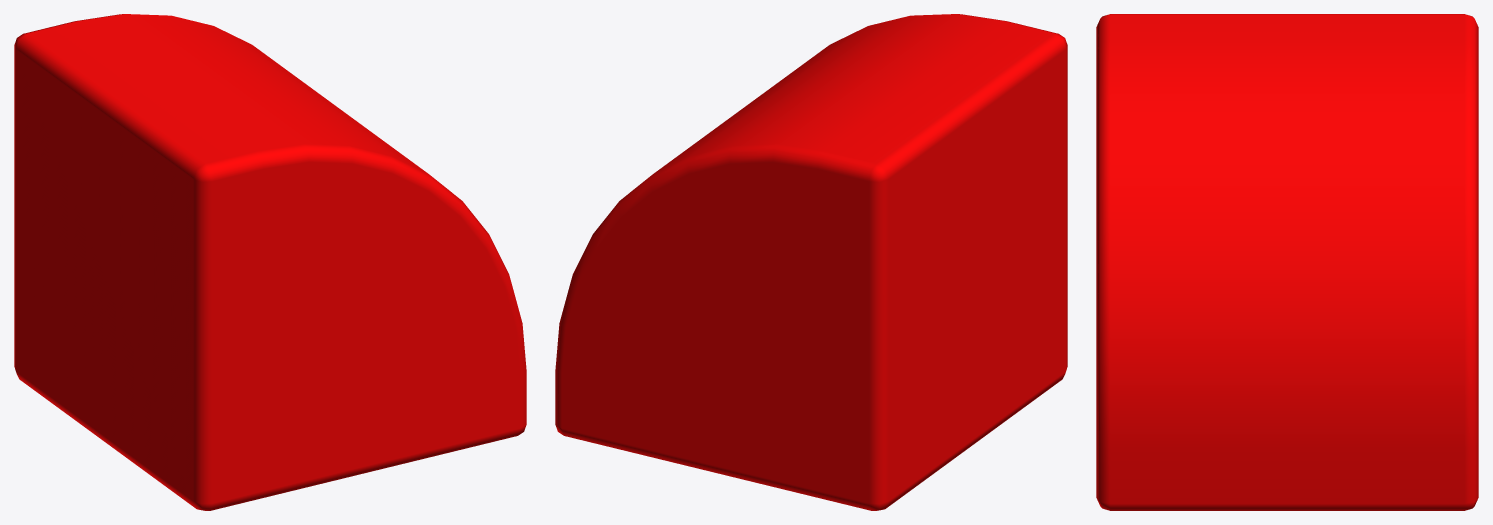
File: ArchCube.gltf
The picture shows the model from 3 angles, left to right: view 1: azimuth 30°, elevation 25°; view 2: azimuth 150°, elevation 25°; view 3: azimuth 270°, elevation 25°; orthographic projection.
Visible parts, largest first — view 1: ArchCube; view 2: ArchCube; view 3: ArchCube.
Boxes of the visible parts, <box> form: ArchCube: <box>14,14,526,510</box>; ArchCube: <box>555,14,1067,510</box>; ArchCube: <box>1096,14,1478,510</box>.
Bounding box in the file's own units: 2 × 2 × 2.
